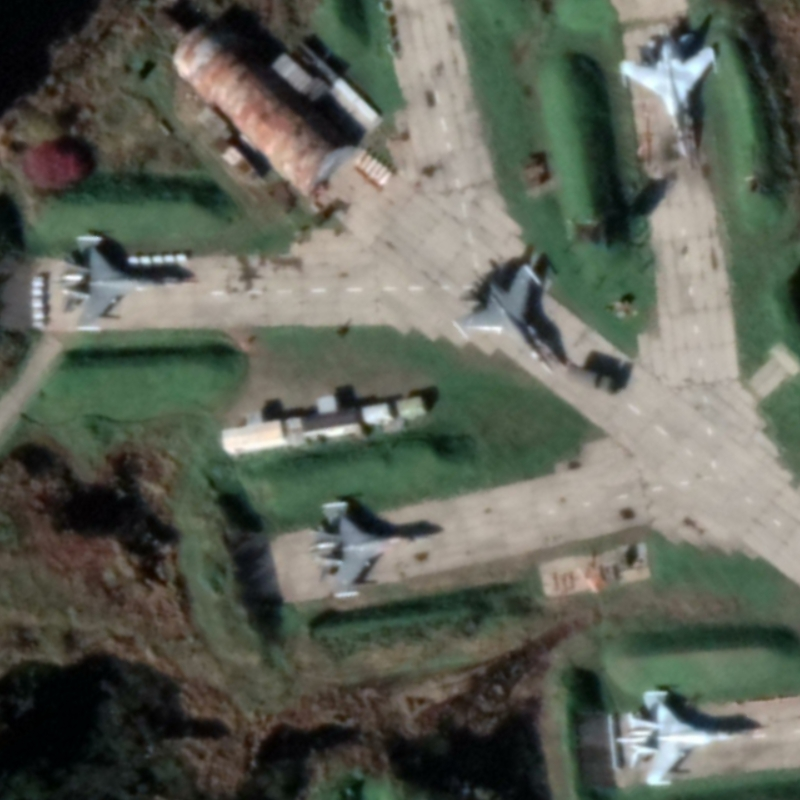A1: (611, 686, 773, 789), (55, 231, 197, 335), (615, 27, 723, 163), (444, 259, 560, 378), (304, 496, 433, 601)
